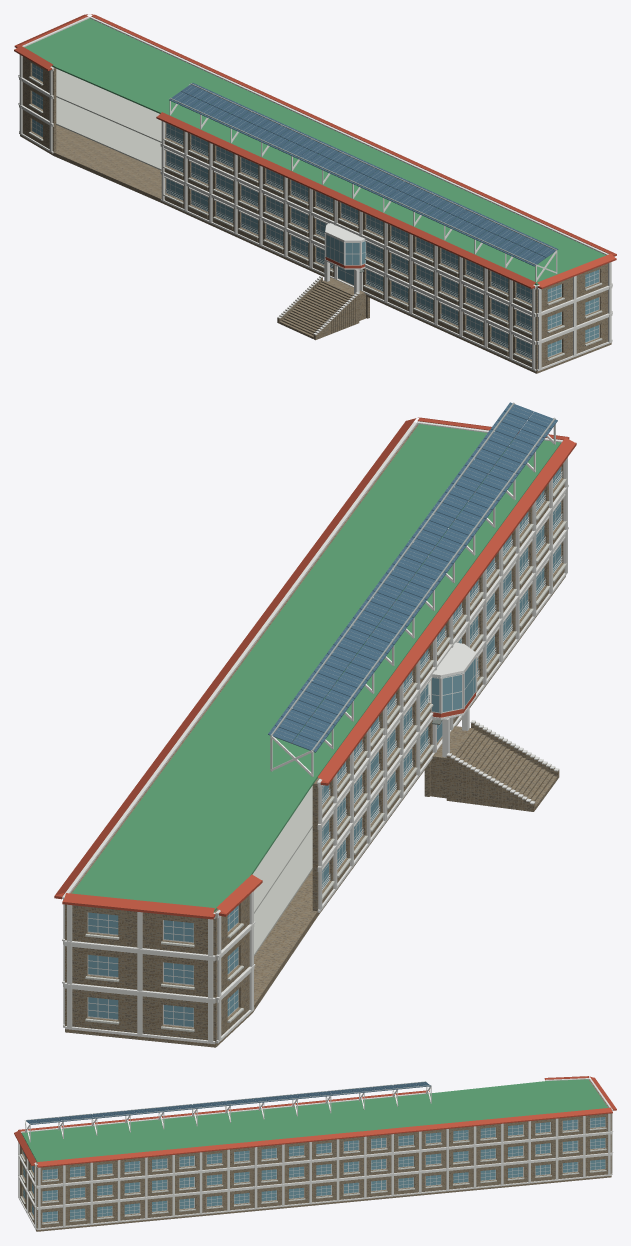
The picture shows the model from 3 angles, top to bottom: view 1: azimuth 30°, elevation 25°; view 2: azimuth 150°, elevation 25°; view 3: azimuth 270°, elevation 25°; orthographic projection. The views are drawn at different scales.
Visible parts, largest first — view 1: main-long__stone, main-long__green, main-long__glass, main-long__pv, main-long__cap, main-long__panel, main-long__red, main-long__frame, main-long__slab, main-long__sill, main-long__stair-front, main-long__steel (+1 smaller); view 2: main-long__green, main-long__stone, main-long__pv, main-long__cap, main-long__red, main-long__panel, main-long__glass, main-long__frame, main-long__slab, main-long__sill, main-long__stair-front, main-long__pvline (+2 smaller); view 3: main-long__stone, main-long__green, main-long__glass, main-long__panel, main-long__cap, main-long__red, main-long__frame, main-long__sill, main-long__pv, main-long__steel.
Boxes of the visible parts, x1=… form: main-long__stone: x1=20, y1=56, x2=611, y2=373; main-long__green: x1=24, y1=18, x2=605, y2=285; main-long__glass: x1=32, y1=63, x2=598, y2=358; main-long__pv: x1=169, y1=83, x2=558, y2=266; main-long__cap: x1=18, y1=16, x2=612, y2=371; main-long__panel: x1=19, y1=18, x2=612, y2=369; main-long__red: x1=14, y1=14, x2=616, y2=289; main-long__frame: x1=32, y1=63, x2=599, y2=359; main-long__slab: x1=56, y1=69, x2=366, y2=257; main-long__sill: x1=28, y1=76, x2=602, y2=363; main-long__stair-front: x1=279, y1=280, x2=353, y2=338; main-long__steel: x1=165, y1=83, x2=556, y2=352; main-long__green: x1=72, y1=424, x2=560, y2=912; main-long__stone: x1=65, y1=424, x2=565, y2=1047; main-long__pv: x1=268, y1=402, x2=557, y2=752; main-long__cap: x1=62, y1=403, x2=568, y2=1044; main-long__red: x1=54, y1=417, x2=576, y2=919; main-long__panel: x1=63, y1=423, x2=566, y2=1042; main-long__glass: x1=88, y1=467, x2=560, y2=1026; main-long__frame: x1=87, y1=466, x2=562, y2=1027; main-long__slab: x1=252, y1=677, x2=443, y2=955; main-long__sill: x1=85, y1=478, x2=566, y2=1032; main-long__stair-front: x1=452, y1=728, x2=557, y2=809; main-long__pvline: x1=270, y1=405, x2=555, y2=748; main-long__stone: x1=20, y1=1079, x2=611, y2=1231; main-long__green: x1=21, y1=1079, x2=607, y2=1162; main-long__glass: x1=23, y1=1117, x2=605, y2=1221; main-long__panel: x1=18, y1=1079, x2=612, y2=1229; main-long__cap: x1=18, y1=1078, x2=613, y2=1229; main-long__red: x1=14, y1=1076, x2=616, y2=1167; main-long__frame: x1=23, y1=1117, x2=605, y2=1222; main-long__sill: x1=20, y1=1127, x2=606, y2=1224; main-long__pv: x1=26, y1=1082, x2=430, y2=1124; main-long__steel: x1=25, y1=1081, x2=430, y2=1124.
Bounding box in the file's own units: 33.02 × 17.55 × 92.92.
Materials: 13 (1 with a texture image).
